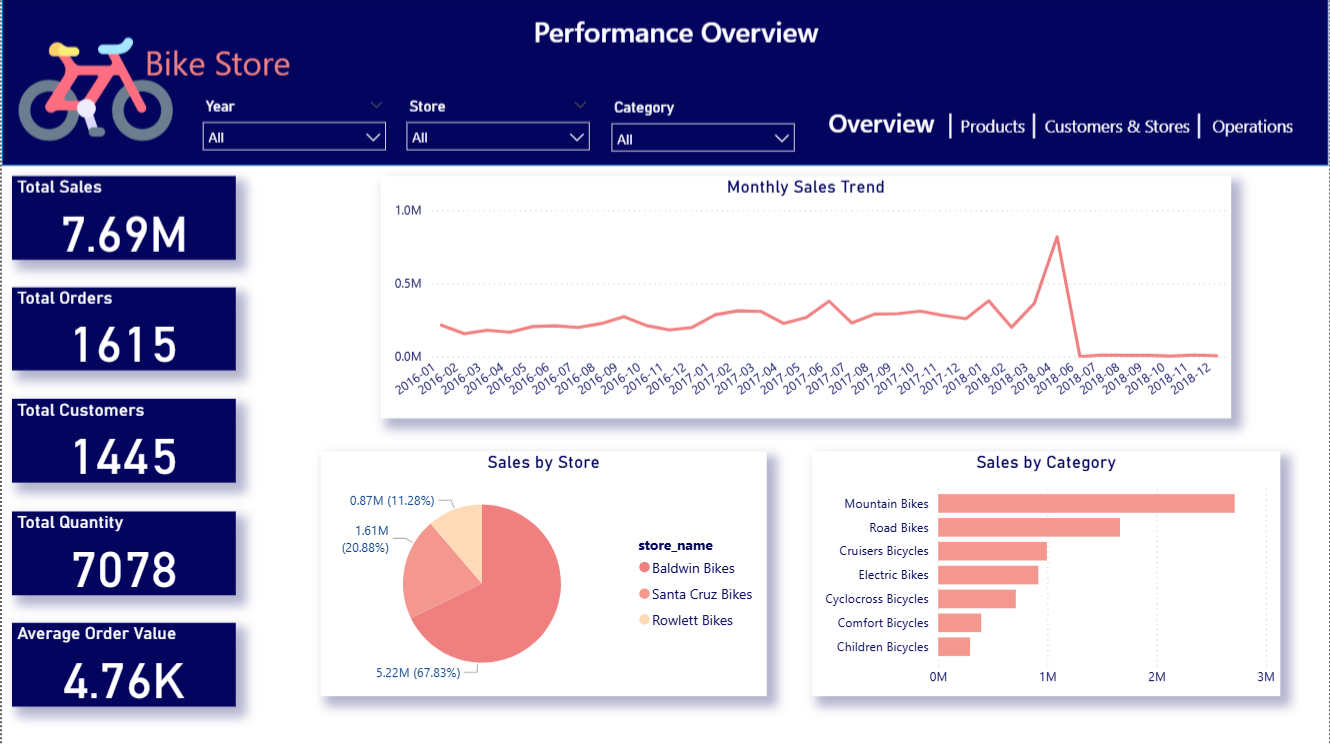

Layout of this report page (visuals, bound fields, positions):
{"tool":"powerbi","page":{"name":"Executive Overview","canvas":[1280,720],"ordinal":0},"visuals":[{"type":"shape","box":[0,0,1280.3,161.3],"z":0},{"type":"card","title":"Total Sales","fields":{"Values":["Fact_Sales.Total Sales"]},"box":[10.1,171.4,216,80.6],"z":1000},{"type":"card","title":"Total Customers","fields":{"Values":["Fact_Sales.Total Customers"]},"box":[10.1,386.4,216,80.6],"z":2000},{"type":"card","title":"Total Orders","fields":{"Values":["Fact_Sales.Total Orders"]},"box":[10.1,279.2,216,80],"z":3000},{"type":"card","title":"Total Quantity","fields":{"Values":["Fact_Sales.Total Quantity"]},"box":[10.1,494.2,216,80.6],"z":4000},{"type":"card","title":"Average Order Value","fields":{"Values":["Fact_Sales.Average Order Value"]},"box":[10.1,602,216,80.6],"z":5000},{"type":"lineChart","title":"Monthly Sales Trend","fields":{"Y":["Fact_Sales.Total Sales"],"Category":["Dim_Date.Year Month"]},"box":[365.8,171.4,820.9,233.3],"z":6000},{"type":"barChart","title":"Sales by Category","fields":{"Category":["Dim_Product.category_name"],"Y":["Fact_Sales.Total Sales"]},"box":[782,436.4,452.2,236.2],"z":7000},{"type":"pieChart","title":"Sales by Store","fields":{"Category":["Dim_Stores.store_name"],"Y":["Fact_Sales.Total Sales"]},"box":[308.2,436.4,430.6,236.2],"z":8000},{"type":"slicer","fields":{"Values":["Dim_Date.Year"]},"box":[182.9,90.7,197.3,61.9],"z":9000},{"type":"slicer","fields":{"Values":["Dim_Product.category_name"]},"box":[577.5,92.2,197.3,60.5],"z":10000},{"type":"slicer","fields":{"Values":["Dim_Stores.store_name"]},"box":[380.2,90.7,197.3,61.9],"z":11000},{"type":"image","box":[10.1,8.6,161.3,158.4],"z":12000},{"type":"textbox","box":[132.5,34.6,194.4,53.3],"z":13000},{"type":"textbox","box":[792.1,99.4,128.2,46.1],"z":14000},{"type":"textbox","box":[907.3,99.4,23,46.1],"z":15000},{"type":"textbox","box":[987.9,99.4,17.3,46.1],"z":16000},{"type":"textbox","box":[1147.8,99.4,20.2,46.1],"z":17000},{"type":"textbox","box":[508.4,8.6,306.8,53.3],"z":18000},{"type":"actionButton","box":[907.3,102.3,97.9,40.3],"z":19000},{"type":"actionButton","box":[996.6,102.3,159.9,40.3],"z":20000},{"type":"actionButton","box":[1147.8,102.3,119.5,40.3],"z":21000}]}

Visuals, with their boxes in screenshot pixels (x1, y1, x2, y2), scaled from the page's 1280x720 canvas onto the 1330x745 screenshot:
shape: bbox=[0, 0, 1329, 167]
"Total Sales" card: bbox=[10, 177, 235, 261]
"Total Customers" card: bbox=[10, 400, 235, 483]
"Total Orders" card: bbox=[10, 289, 235, 372]
"Total Quantity" card: bbox=[10, 511, 235, 595]
"Average Order Value" card: bbox=[10, 623, 235, 706]
"Monthly Sales Trend" lineChart: bbox=[380, 177, 1233, 419]
"Sales by Category" barChart: bbox=[813, 452, 1282, 696]
"Sales by Store" pieChart: bbox=[320, 452, 768, 696]
slicer - Dim_Date.Year: bbox=[190, 94, 395, 158]
slicer - Dim_Product.category_name: bbox=[600, 95, 805, 158]
slicer - Dim_Stores.store_name: bbox=[395, 94, 600, 158]
image: bbox=[10, 9, 178, 173]
textbox: bbox=[138, 36, 340, 91]
textbox: bbox=[823, 103, 956, 151]
textbox: bbox=[943, 103, 967, 151]
textbox: bbox=[1026, 103, 1044, 151]
textbox: bbox=[1193, 103, 1214, 151]
textbox: bbox=[528, 9, 847, 64]
actionButton: bbox=[943, 106, 1044, 148]
actionButton: bbox=[1036, 106, 1202, 148]
actionButton: bbox=[1193, 106, 1317, 148]
